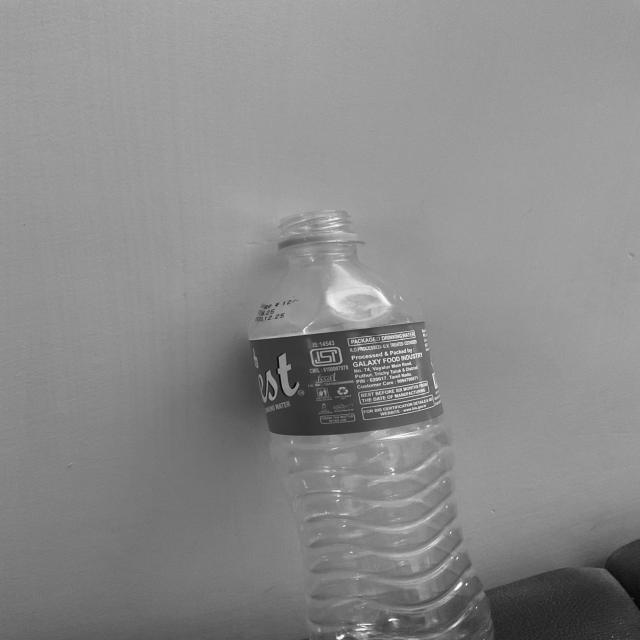open-cap: (276, 211, 356, 241)
